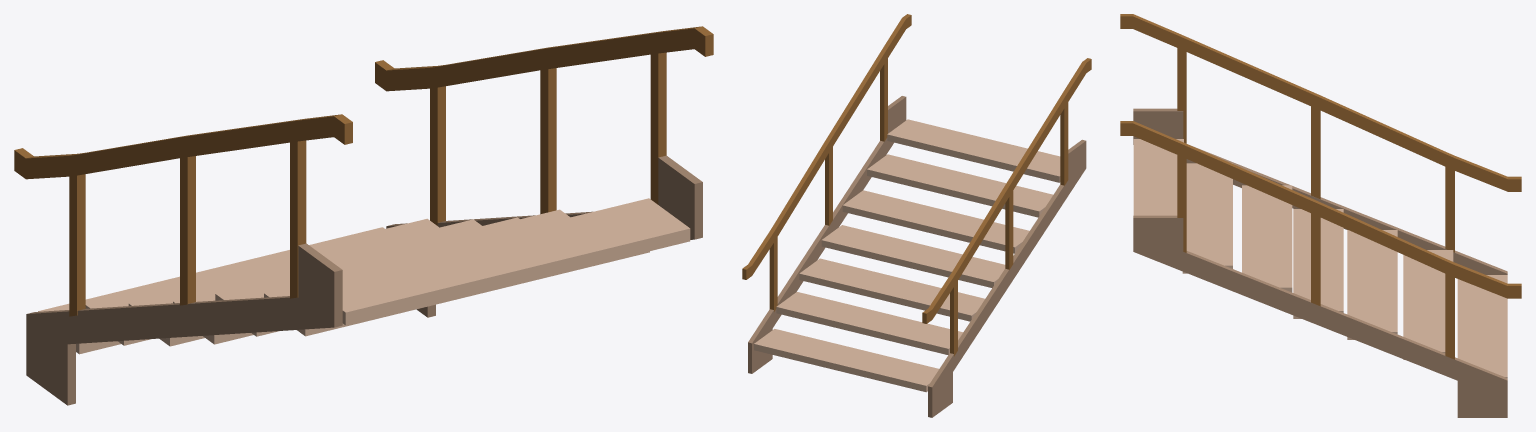
File: Escaleritas.fbx
3 renders of one model, left to right at view 1: azimuth 30°, elevation 25°; view 2: azimuth 150°, elevation 25°; view 3: azimuth 270°, elevation 25°, orthographic. The views are drawn at different scales.
Visible parts, largest first — view 1: pCube11, pCube10, pCube12; view 2: pCube11, pCube10, pCube12; view 3: pCube11, pCube10, pCube12.
Boxes of the visible parts, x1,y1,x2,y2 form: pCube11: (38,198,690,354); pCube10: (14,26,713,316); pCube12: (26,155,702,405); pCube11: (754,119,1060,392); pCube10: (742,14,1091,356); pCube12: (748,96,1086,417); pCube11: (1133,139,1507,377); pCube10: (1120,14,1521,359); pCube12: (1133,108,1507,417).
Bounding box in the file's own units: 3.44 × 4.32 × 5.33.
